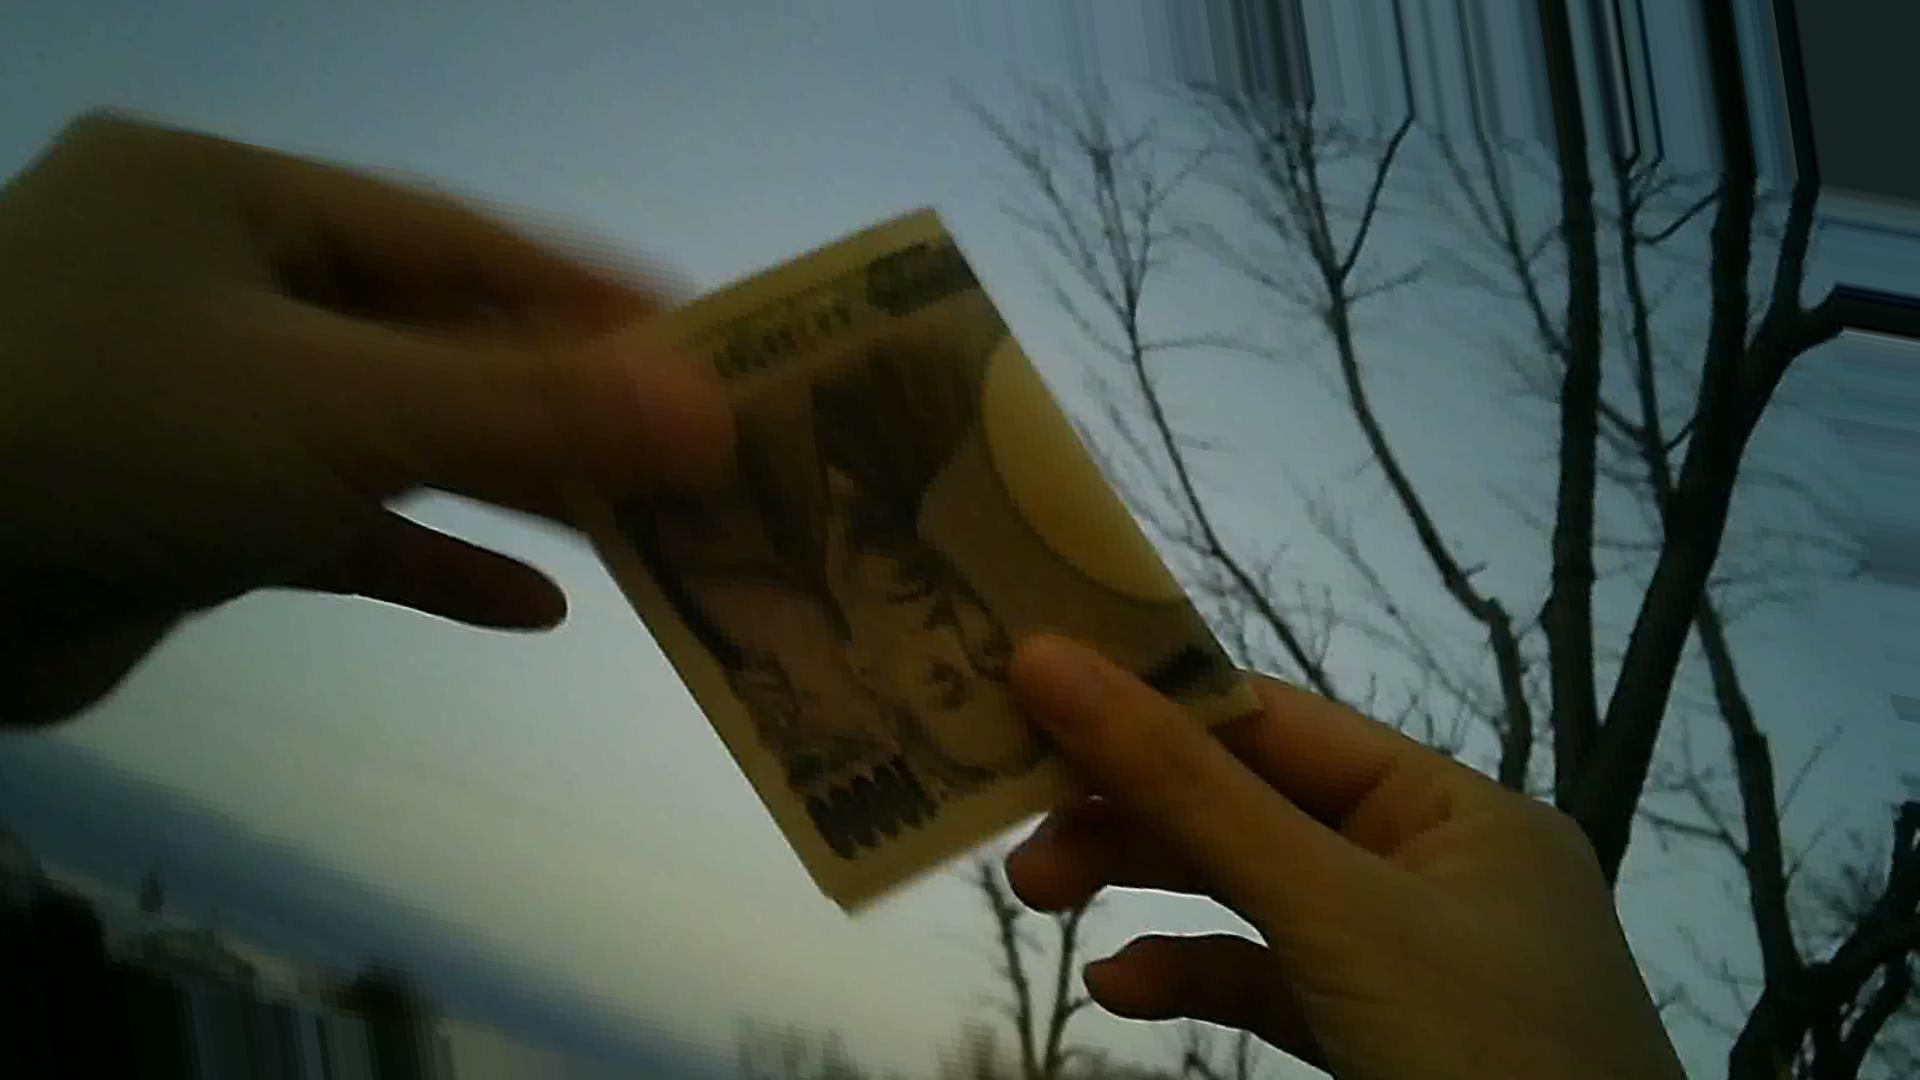10,000 Yen: (535, 219, 1265, 894)
